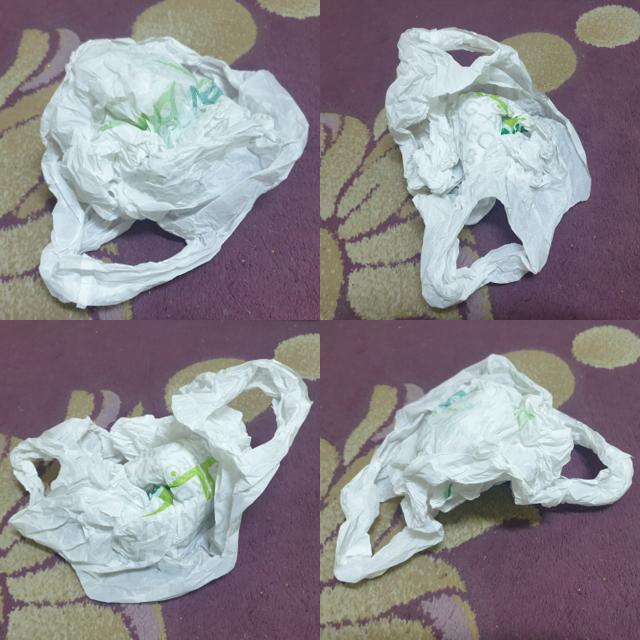Single-layer Plastic: (40, 38, 309, 309), (10, 360, 311, 602), (334, 355, 634, 582), (385, 28, 591, 308)
